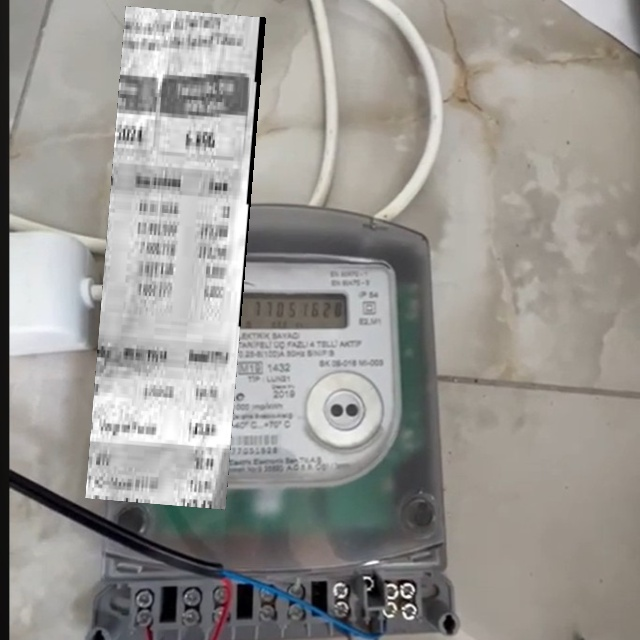electricity-bill: (85, 6, 266, 510)
